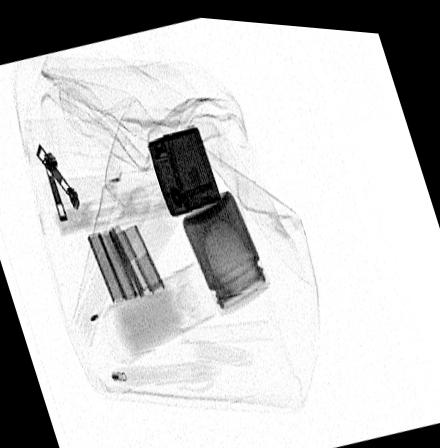Lighter: (147, 122, 222, 213)
